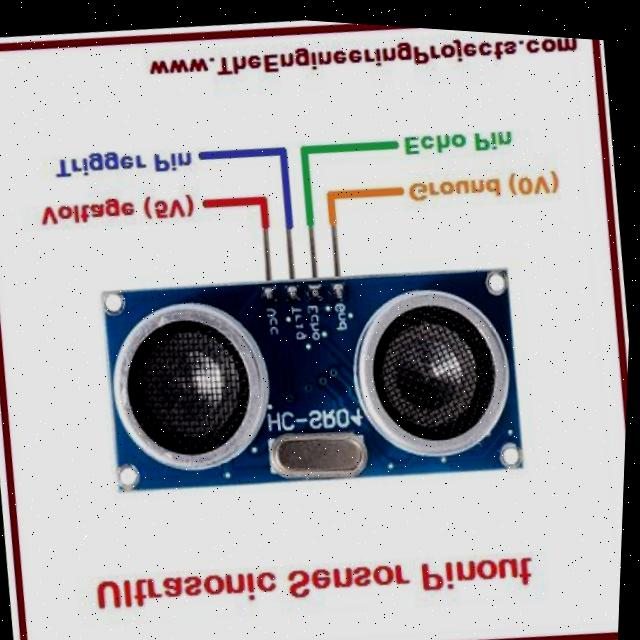Ultrasonic Sensor: (88, 215, 540, 500)
